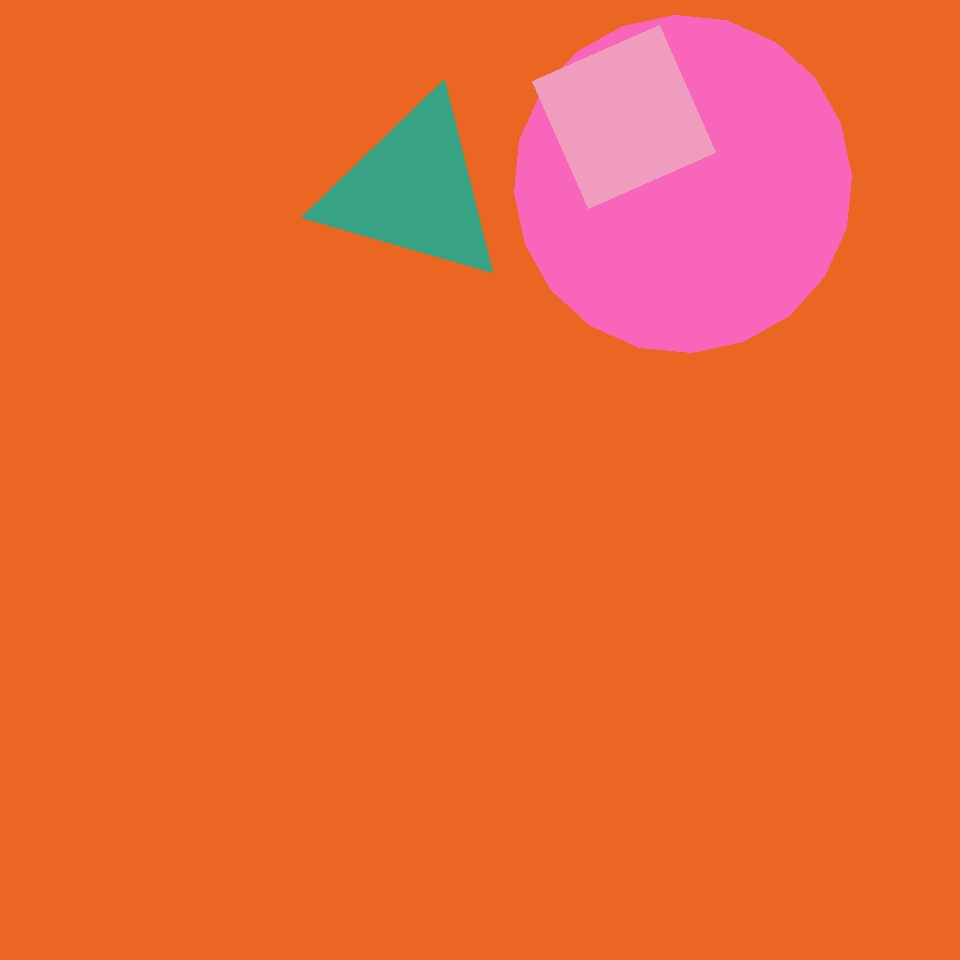circle: (318, 93, 508, 286), (702, 657, 873, 803), (672, 317, 760, 413)
square: (532, 26, 716, 208)
triangle: (514, 16, 852, 352), (346, 92, 672, 419)
